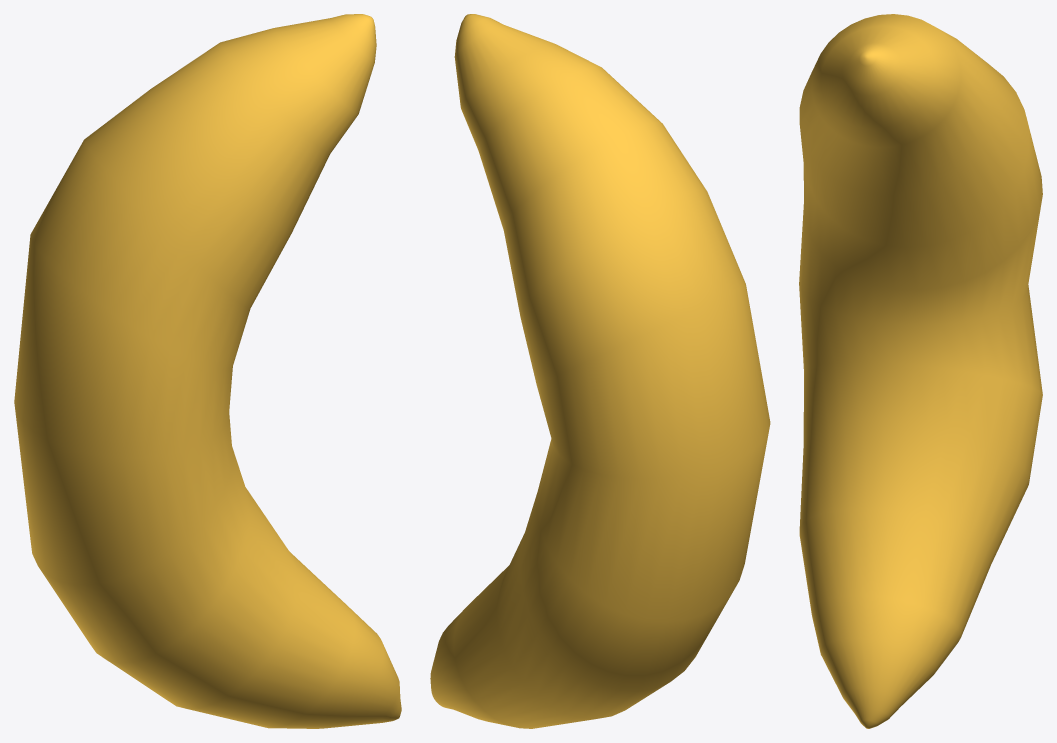
File: Banana.fbx
3 renders of one model, left to right at view 1: azimuth 30°, elevation 25°; view 2: azimuth 150°, elevation 25°; view 3: azimuth 270°, elevation 25°, orthographic. The views are drawn at different scales.
Visible parts, largest first — view 1: Banana; view 2: Banana; view 3: Banana.
Boxes of the visible parts, x1,y1,x2,y2 form: Banana: (14,14,401,728); Banana: (430,14,770,728); Banana: (799,14,1042,728).
Bounding box in the file's own units: 87.43 × 172 × 57.29.
